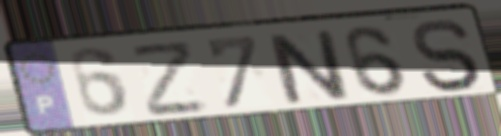6: (343, 23, 411, 100), (70, 44, 133, 126)
7: (203, 33, 262, 113)
N: (262, 27, 355, 107)
S: (408, 16, 484, 94)
Z: (128, 38, 211, 120)
